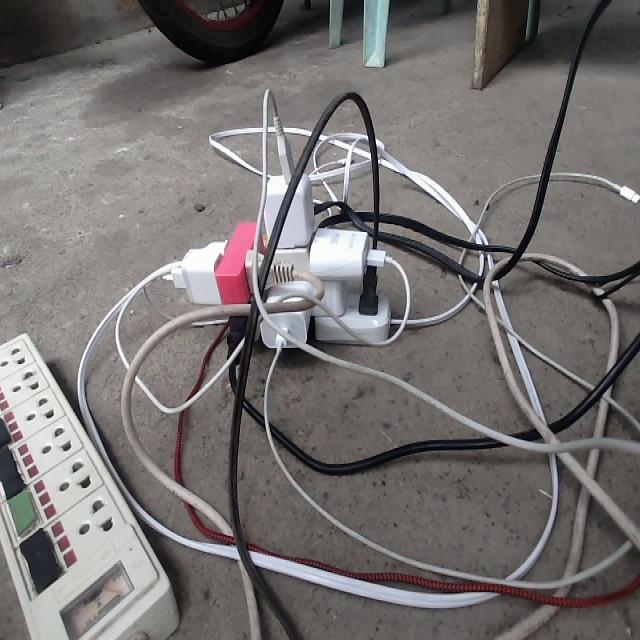-: (150, 88, 397, 364)
